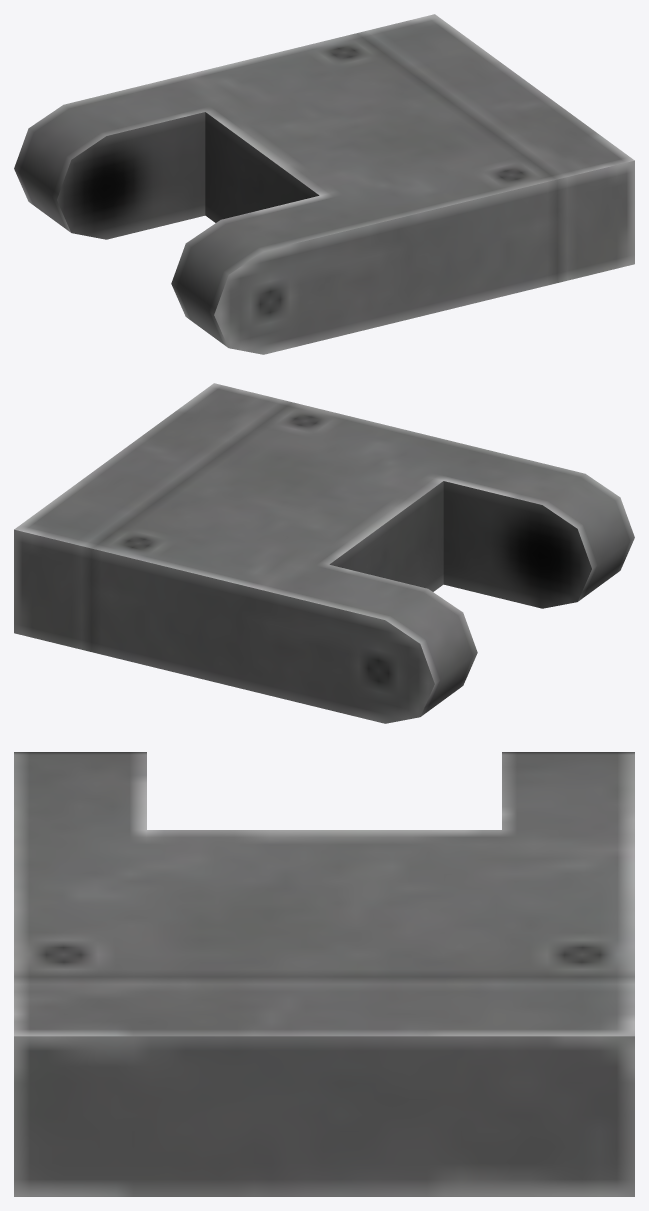
Rendered from big_base.obj.
The picture shows the model from 3 angles, top to bottom: view 1: azimuth 30°, elevation 25°; view 2: azimuth 150°, elevation 25°; view 3: azimuth 270°, elevation 25°; orthographic projection. The views are drawn at different scales.
Parts seen in each view (by area): view 1: 1; view 2: 1; view 3: 1.
Part boxes in pixels (box(x1,y1,x2,y2)): 1: box(14, 14, 634, 354); 1: box(14, 383, 634, 723); 1: box(14, 752, 634, 1196).
Size of the model in its own units: 0.2125 by 0.05 by 0.175.
1 material, 1 textured.
